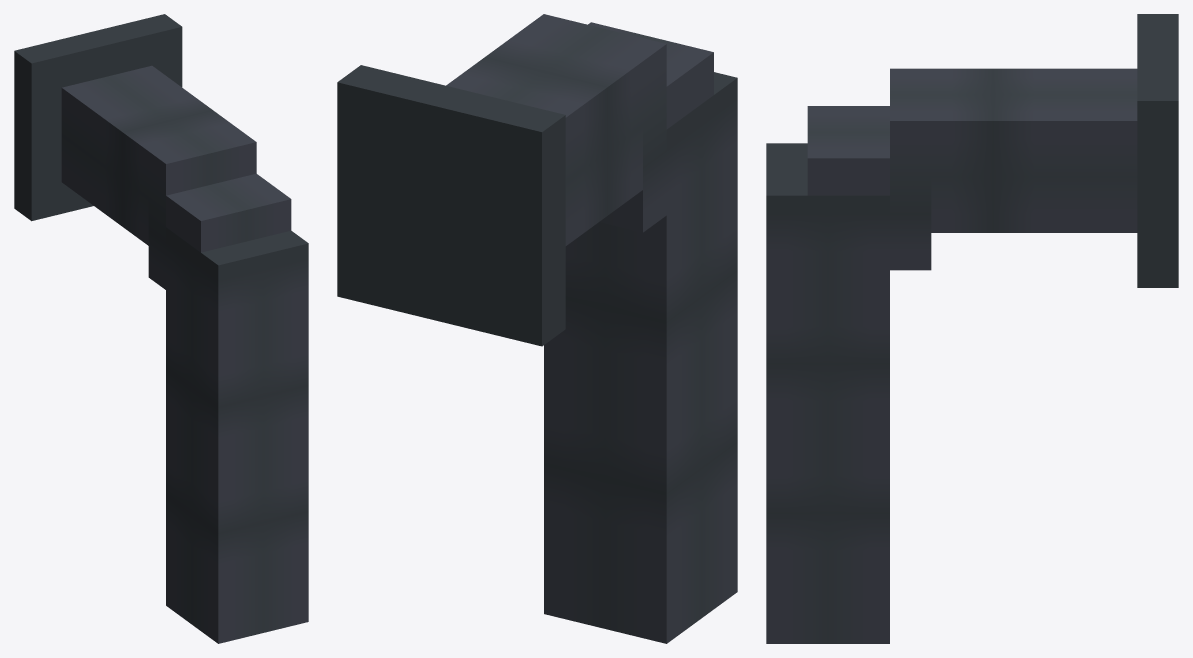
The model's file is Pipes-4.fbx.
The picture shows the model from 3 angles, left to right: view 1: azimuth 30°, elevation 25°; view 2: azimuth 150°, elevation 25°; view 3: azimuth 270°, elevation 25°; orthographic projection. The views are drawn at different scales.
Visible parts, largest first — view 1: Pipes_4; view 2: Pipes_4; view 3: Pipes_4.
Part boxes in pixels (left/top/right/bottom): Pipes_4: left=14, top=14, right=308, bottom=643; Pipes_4: left=337, top=14, right=737, bottom=643; Pipes_4: left=766, top=14, right=1178, bottom=643.
Bounding box in the file's own units: 50 × 150 × 100.
1 material, 1 textured.
